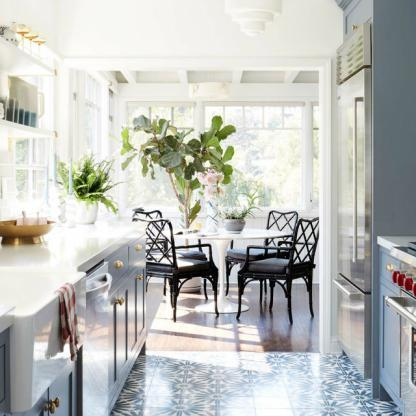chair: (234, 218, 327, 317), (142, 218, 218, 319), (221, 207, 301, 260)
table: (0, 228, 148, 416), (140, 224, 296, 317)
